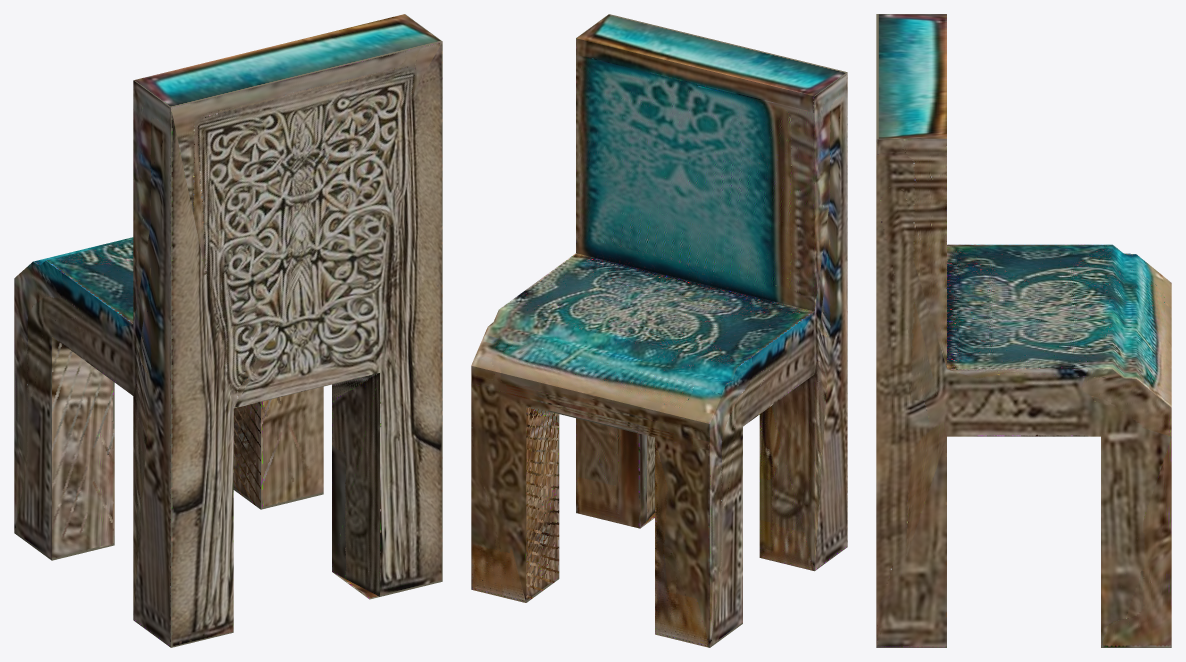
The model's file is chair_11_21__14_45_17_textured.obj.
3 views of the same model, side by side, from view 1: azimuth 30°, elevation 25°; view 2: azimuth 150°, elevation 25°; view 3: azimuth 270°, elevation 25° (orthographic). The views are drawn at different scales.
Size of the model in its own units: 0.4367 by 0.8298 by 0.4367.
Materials: 1 (1 with a texture image).
